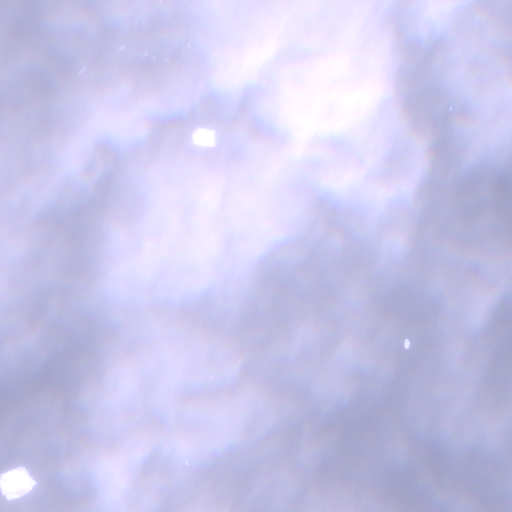Iceberg: (0, 466, 36, 499), (191, 129, 215, 146), (404, 338, 409, 348)
